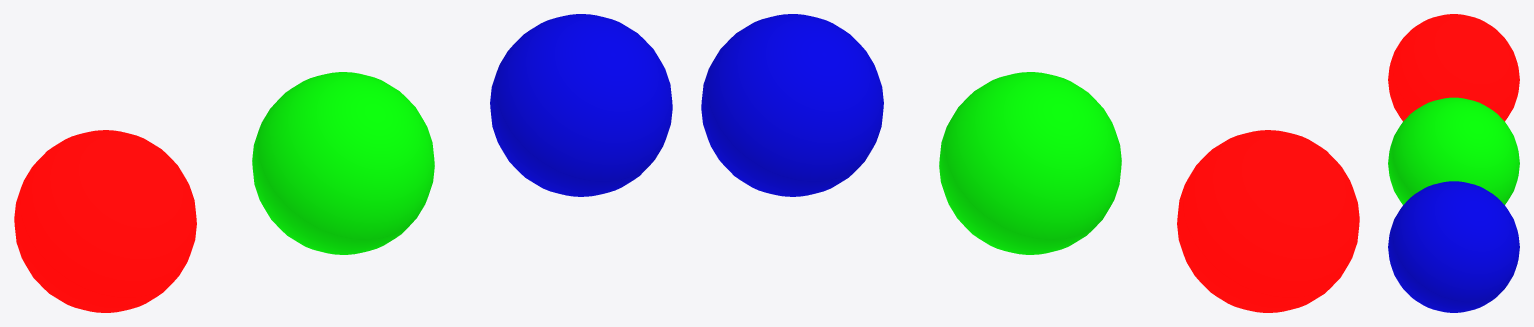
Rendered from Unlit.gltf.
3 renders of one model, left to right at view 1: azimuth 30°, elevation 25°; view 2: azimuth 150°, elevation 25°; view 3: azimuth 270°, elevation 25°, orthographic. The views are drawn at different scales.
Visible parts, largest first — view 1: PhysicalMesh, StandardMesh, StandardSurfaceMesh; view 2: PhysicalMesh, StandardMesh, StandardSurfaceMesh; view 3: StandardSurfaceMesh, StandardMesh, PhysicalMesh.
Part boxes in pixels (x1,y1,x2,y2): PhysicalMesh: [252, 72, 434, 254]; StandardMesh: [14, 130, 196, 312]; StandardSurfaceMesh: [490, 14, 672, 196]; PhysicalMesh: [939, 72, 1121, 254]; StandardMesh: [1177, 130, 1359, 312]; StandardSurfaceMesh: [701, 14, 883, 196]; StandardSurfaceMesh: [1388, 181, 1519, 312]; StandardMesh: [1388, 14, 1519, 121]; PhysicalMesh: [1388, 97, 1519, 204].
Size of the model in its own units: 8 by 2 by 2.
